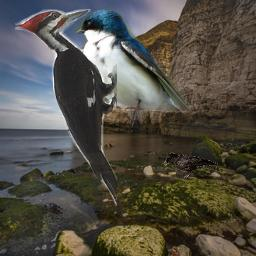Crow: (163, 153, 220, 180)
Swallow: (73, 7, 192, 128)
Woodpecker: (15, 9, 117, 207)
